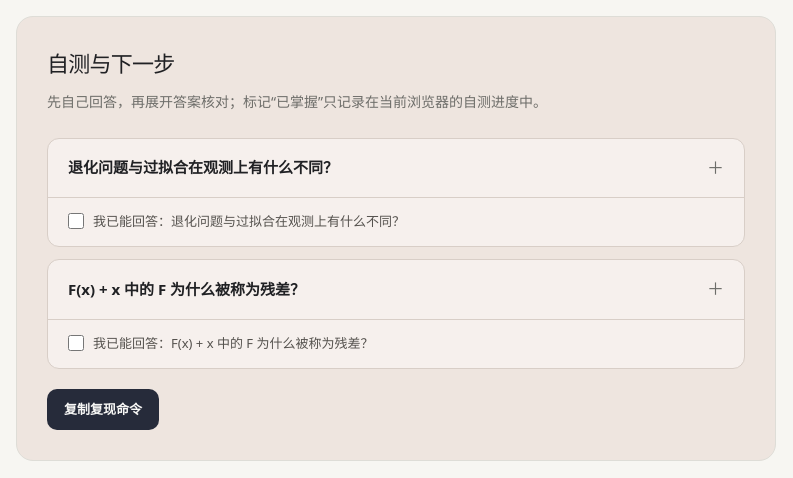
Test: PaperSelfCheck › does not crash when clipboard access is missing
The image size is (793, 478).
Click the button "复制复现命令" at point(103, 410), box [47, 389, 159, 430]
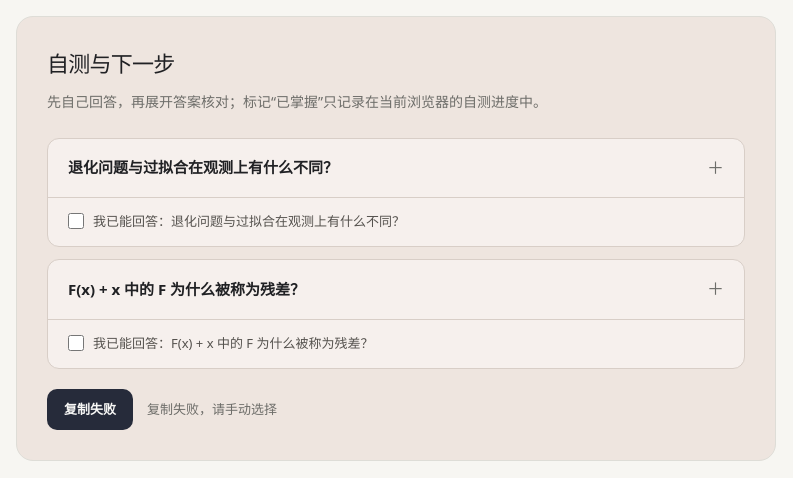
Result: the button named "复制复现命令" reads "复制失败" at [47, 389, 133, 430]
Result: the message reads "复制失败，请手动选择" at [147, 400, 277, 418]
